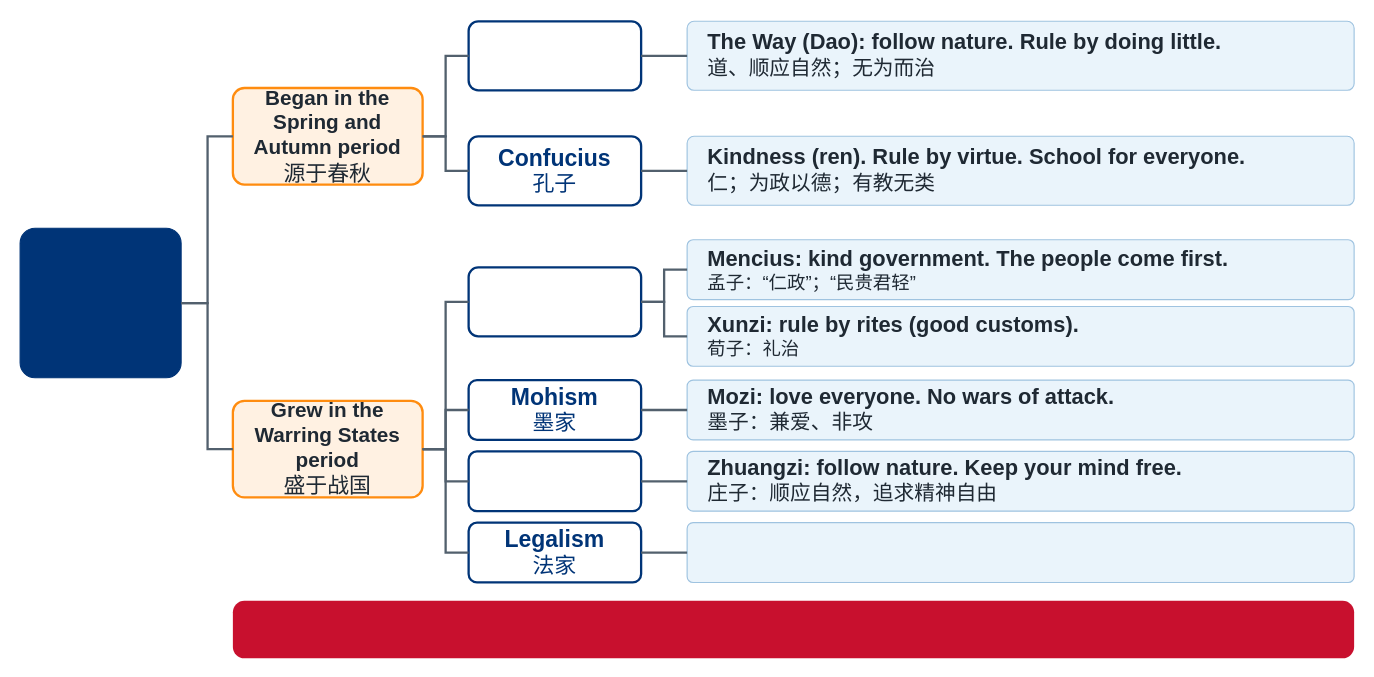
This 1374x677 diagram has some shape labels left out. The centre of each missing label's shape, as x and y in pixels:
"Confucianism 儒家" belongs at point 554,301.
"Daoism 道家" belongs at point 554,481.
"Han Fei: rule by law. A strong ruler. 韩非：以法治国" belongs at point 1020,552.
"Hundred Schools of Thought 百家争鸣" belongs at point 100,302.
"Laozi 老子" belongs at point 554,55.
"The first high point of ideas in ancient China 中国古代第一次思想文化发展的高峰" belongs at point 793,629.
